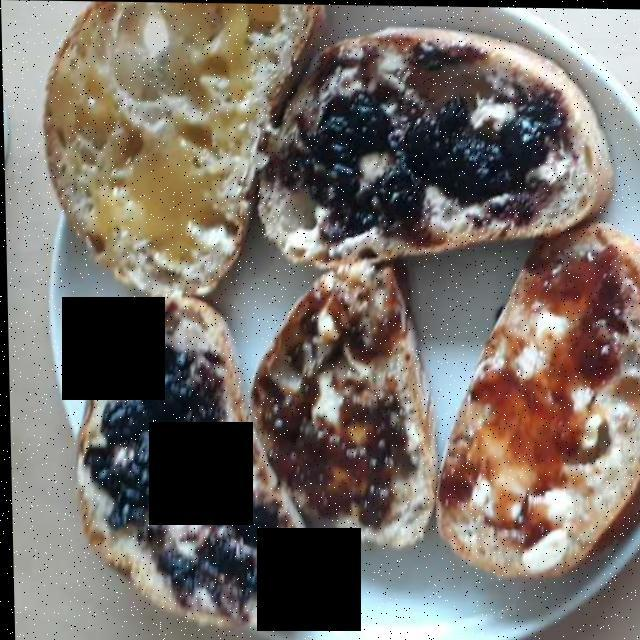bread: (50, 8, 638, 617)
jam: (101, 49, 639, 615)
